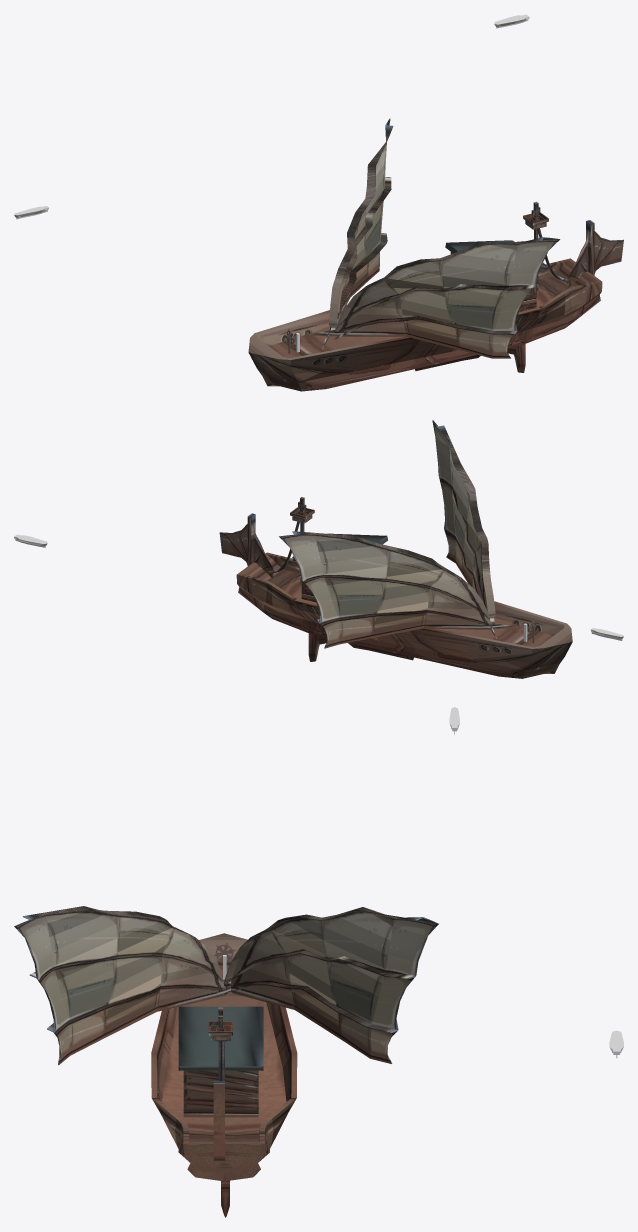
File: BOAT.fbx
3 renders of one model, top to bottom at view 1: azimuth 30°, elevation 25°; view 2: azimuth 150°, elevation 25°; view 3: azimuth 270°, elevation 25°, orthographic. The views are drawn at different scales.
Visible parts, largest first — view 1: Plane, Cube, Plane.001, Plane.002, Cube.003, Cube.006; view 2: Plane.001, Cube, Plane, Plane.002, Cube.006, Cube.003, Cube.005; view 3: Plane, Plane.001, Cube, Cube.003, Plane.002, Cube.005.
Part boxes in pixels (box(x1,y1,x2,y2)): Plane: box(308, 237, 560, 358); Cube: box(248, 258, 602, 391); Plane.001: box(322, 118, 393, 349); Plane.002: box(567, 220, 623, 287); Cube.003: box(445, 240, 546, 311); Cube.006: box(415, 344, 525, 372); Plane.001: box(279, 531, 517, 648); Cube: box(236, 552, 572, 678); Plane: box(432, 420, 496, 638); Plane.002: box(219, 513, 273, 577); Cube.006: box(308, 633, 413, 661); Cube.003: box(292, 533, 387, 602); Cube.005: box(290, 497, 314, 584); Plane: box(14, 906, 230, 1065); Plane.001: box(223, 907, 438, 1063); Cube: box(151, 933, 297, 1181); Cube.003: box(178, 1006, 263, 1117); Plane.002: box(213, 1081, 224, 1160); Cube.005: box(208, 1007, 232, 1081).
Size of the model in its own units: 4606 by 1578 by 3301.
